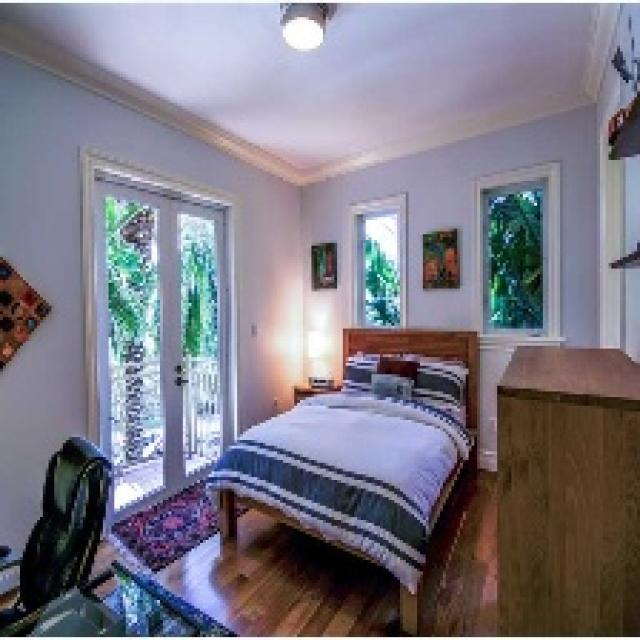Bed: (203, 326, 477, 631)
